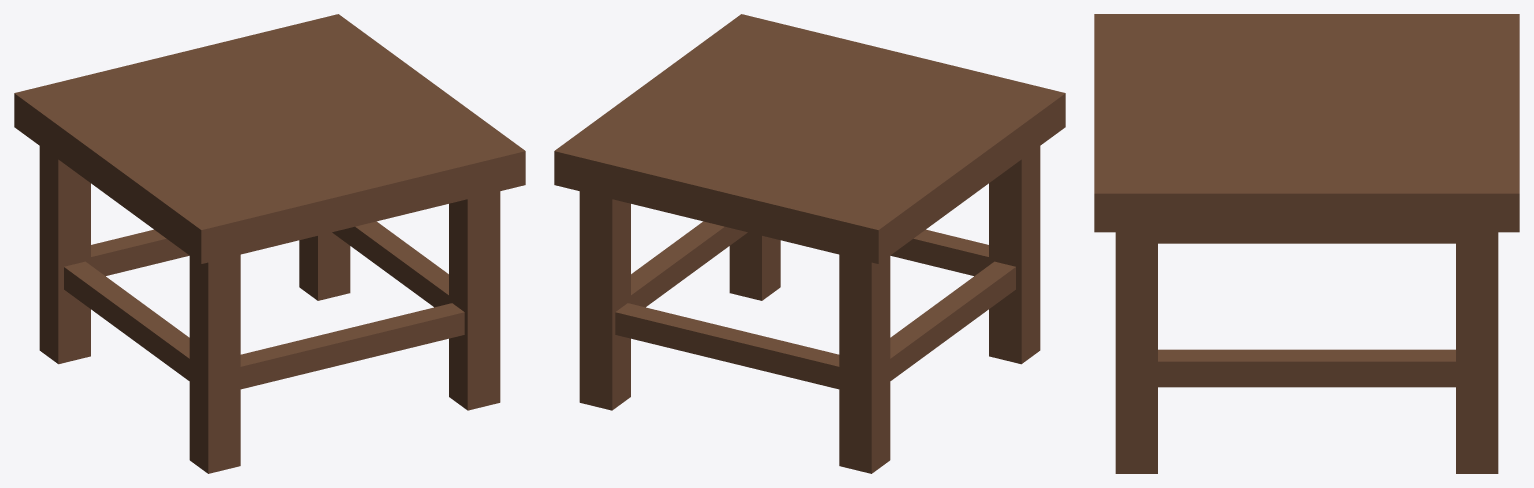
The model's file is furniture_stool.glb.
The picture shows the model from 3 angles, left to right: view 1: azimuth 30°, elevation 25°; view 2: azimuth 150°, elevation 25°; view 3: azimuth 270°, elevation 25°; orthographic projection. The views are drawn at different scales.
Visible parts, largest first — view 1: PROP_Stool; view 2: PROP_Stool; view 3: PROP_Stool.
Part boxes in pixels (x1=…): PROP_Stool: x1=14, y1=14, x2=525, y2=473; PROP_Stool: x1=554, y1=14, x2=1065, y2=473; PROP_Stool: x1=1094, y1=14, x2=1519, y2=473.
Size of the model in its own units: 0.6 by 0.45 by 0.6.
